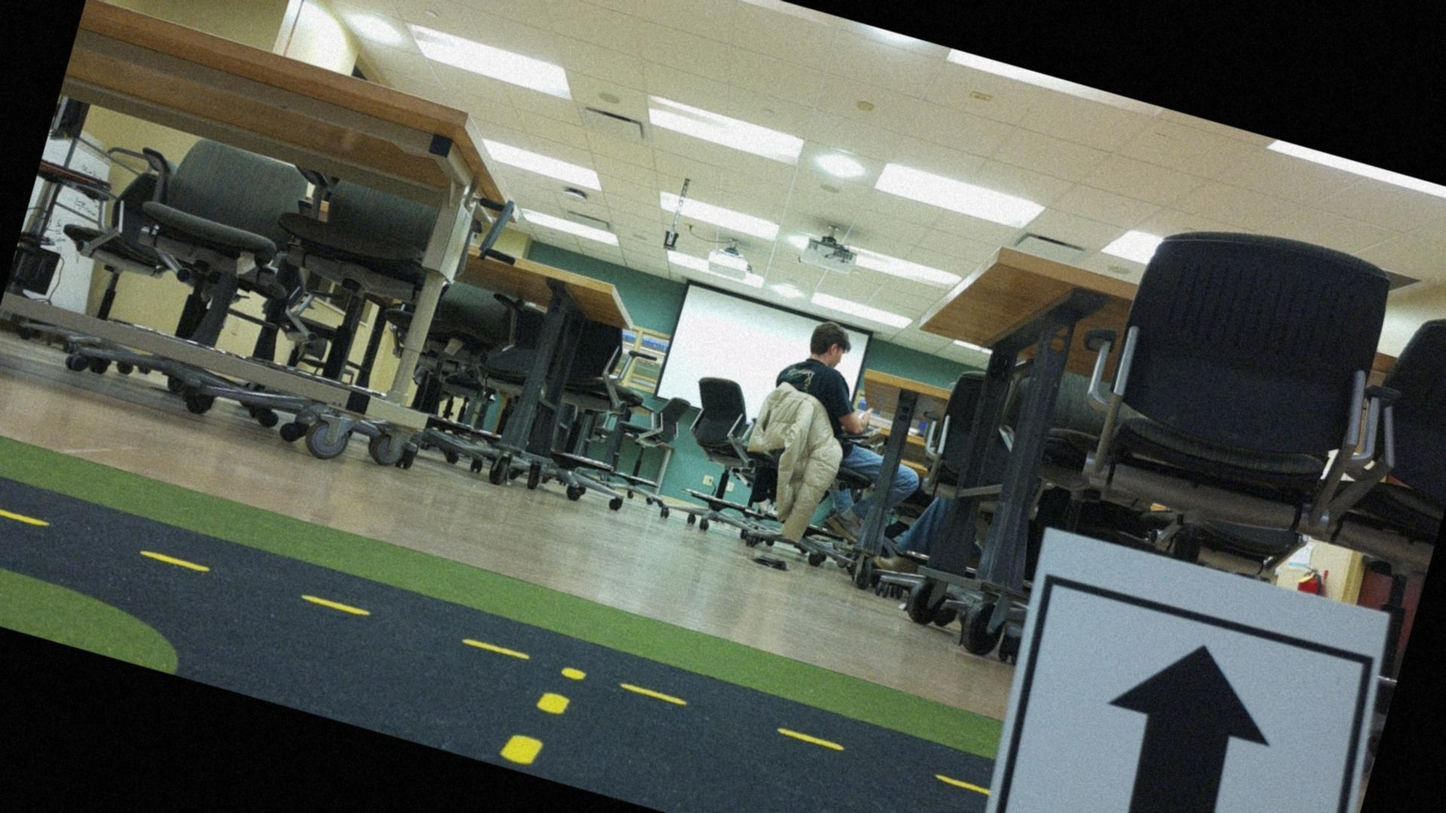gostraight: (962, 518, 1403, 812)
yellowline: (0, 492, 989, 793), (499, 650, 584, 774)
